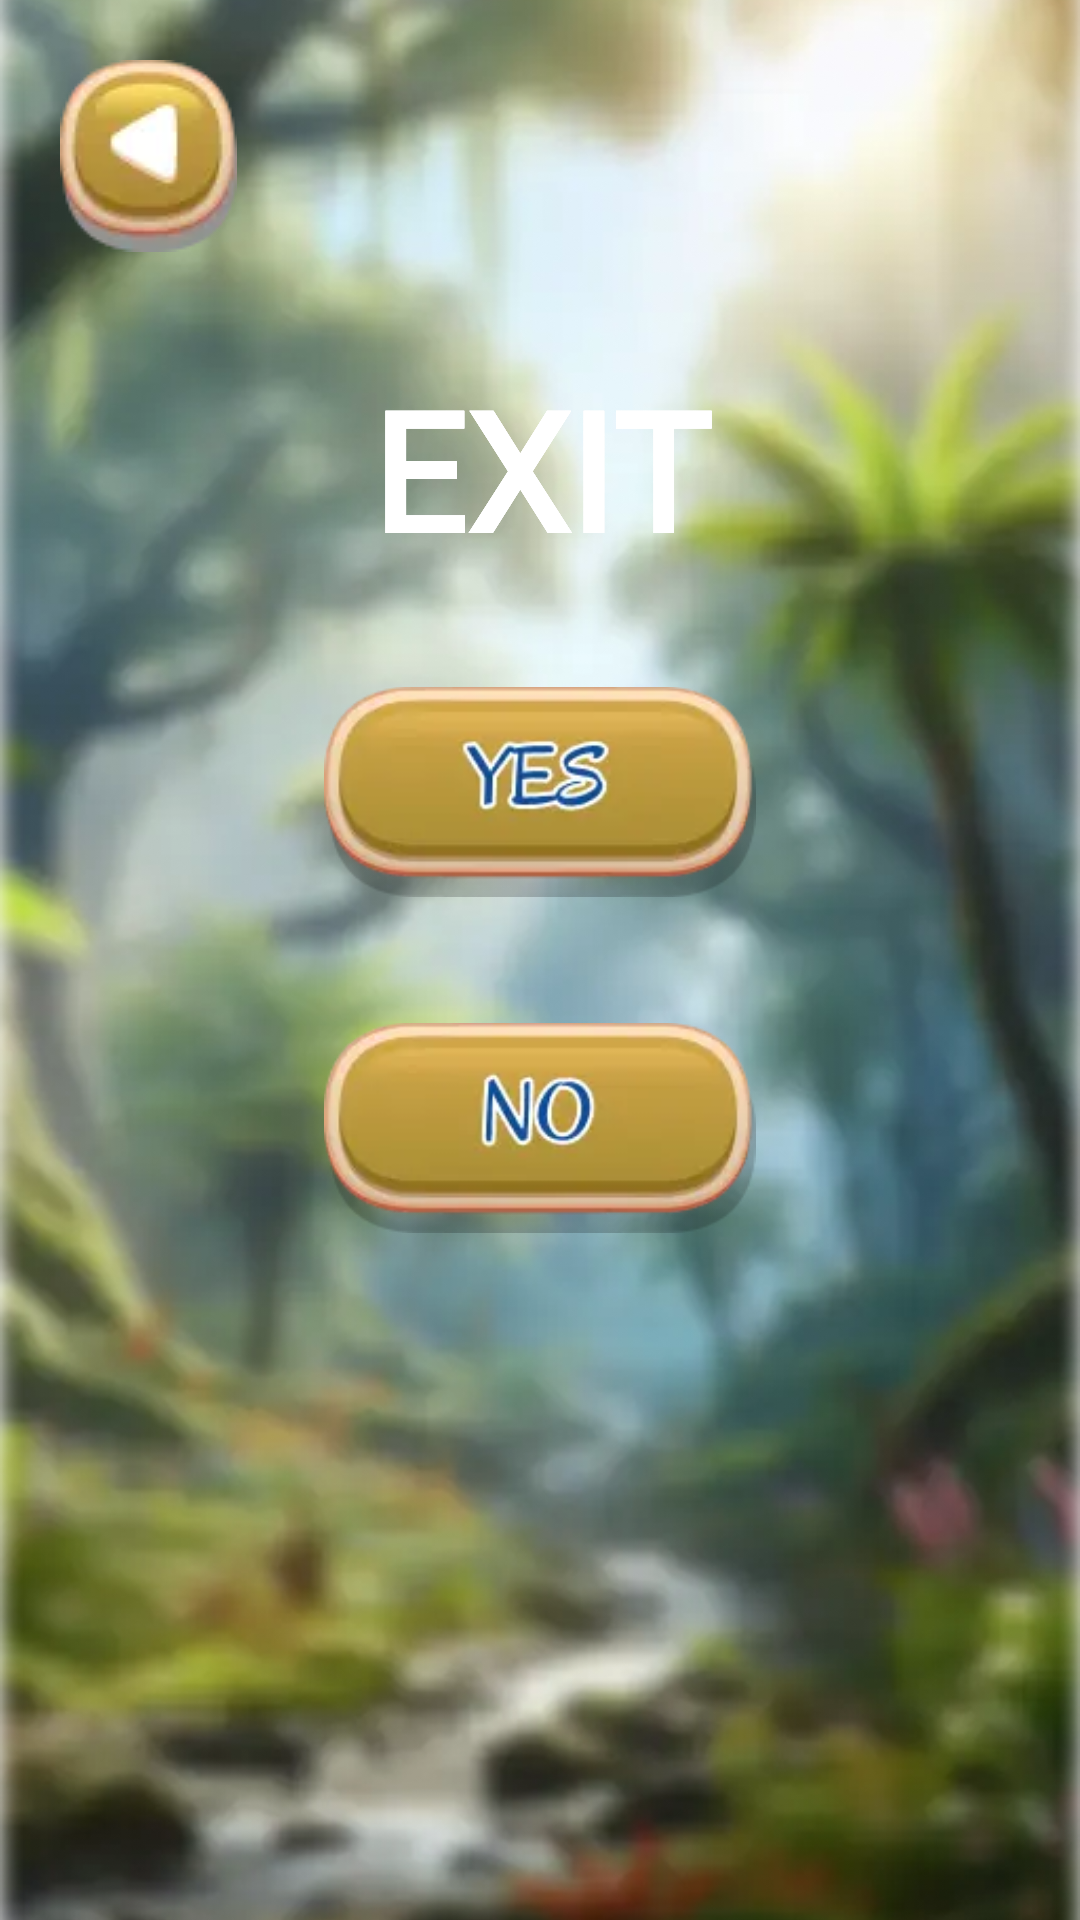

Screen size 1080x1920. Icon name, then its center in pixels as [x,y]:
back: [148,156]
